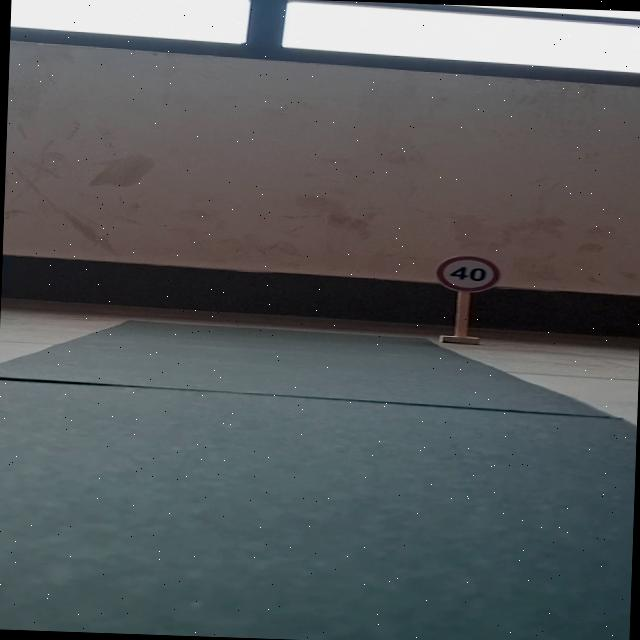Speed40: (426, 252, 506, 296)
